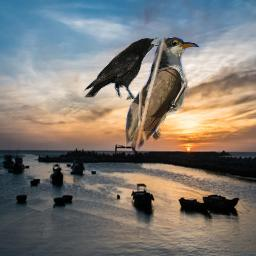Crow: (83, 36, 161, 102)
Cuckoo: (125, 37, 217, 153)
